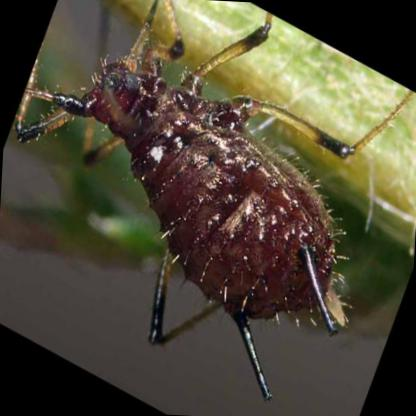uroleucon compositae: (50, 1, 353, 400)
